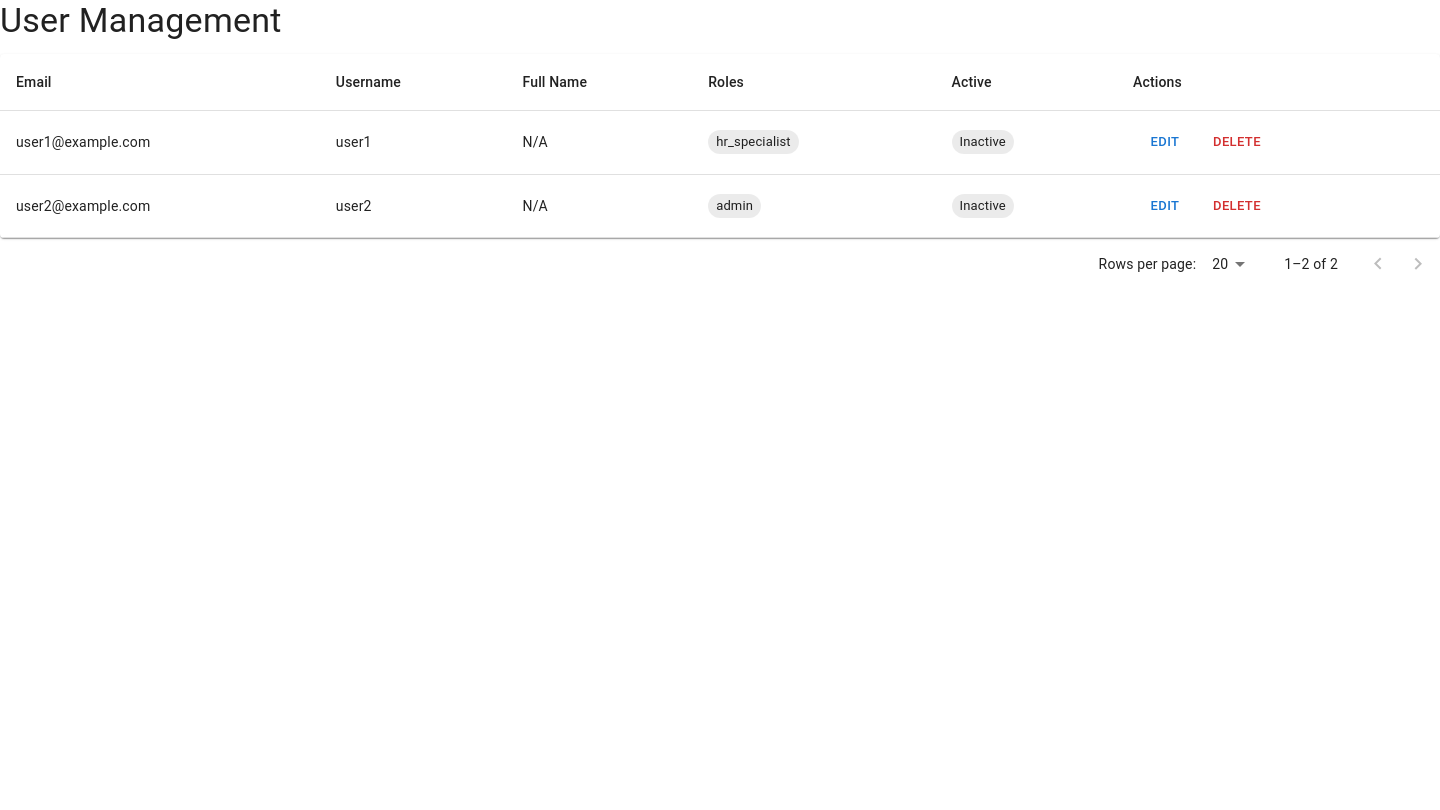
AdminPage › opens edit user dialog
expect the text "user1@example.com" is shown: met, box [0, 110, 320, 174]
// Use getAllByRole and select the first Edit button (since there's only one user)
Click the button "Edit" in the row of "user1@example.com" at (1165, 142), box [1133, 127, 1197, 158]
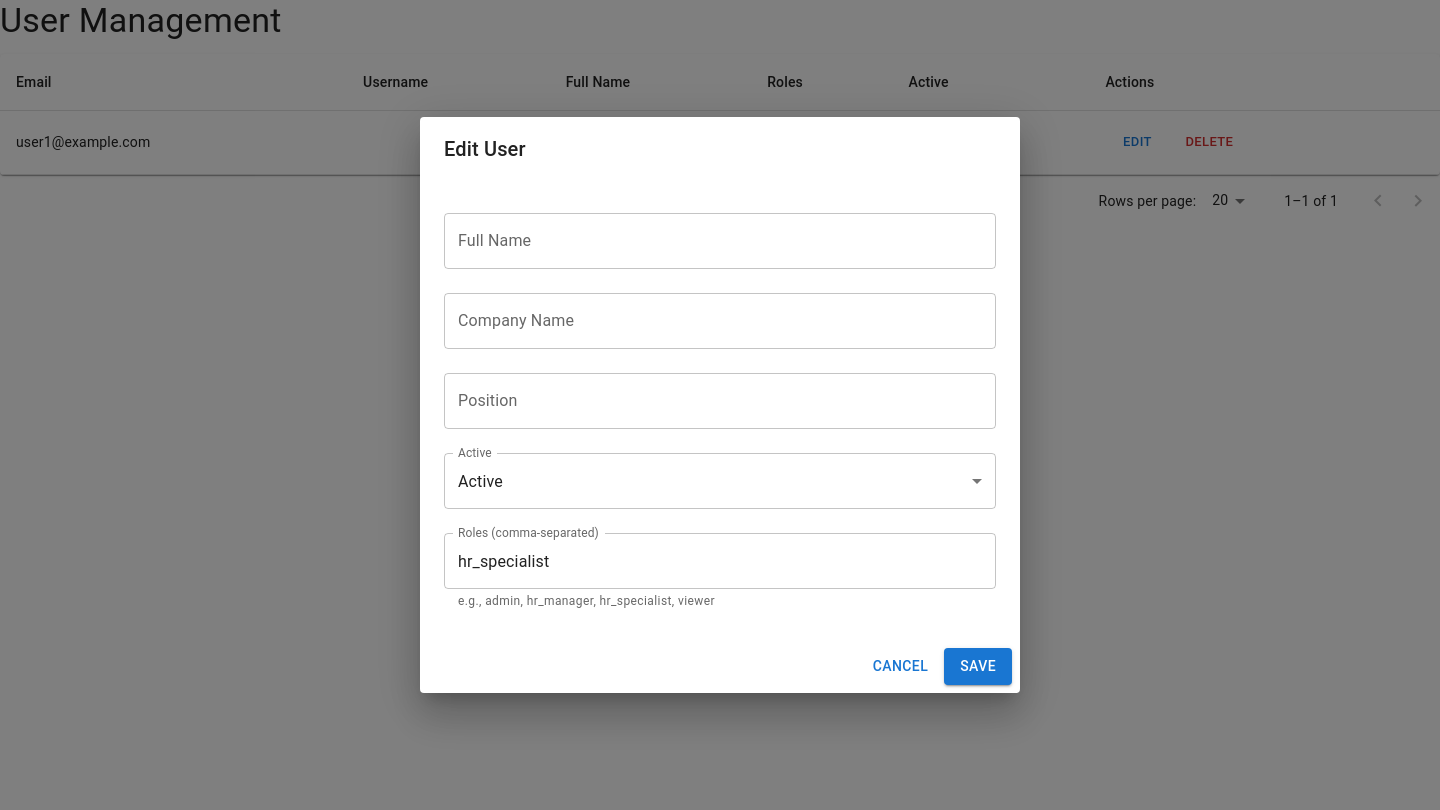
expect the heading "Edit User" is shown: met, box [444, 137, 526, 161]
